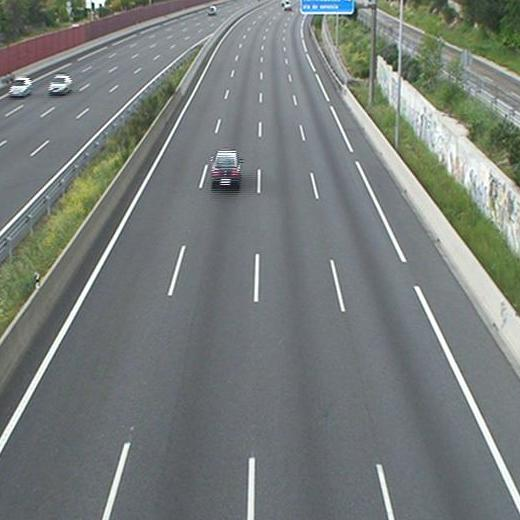car: (211, 151, 242, 192)
